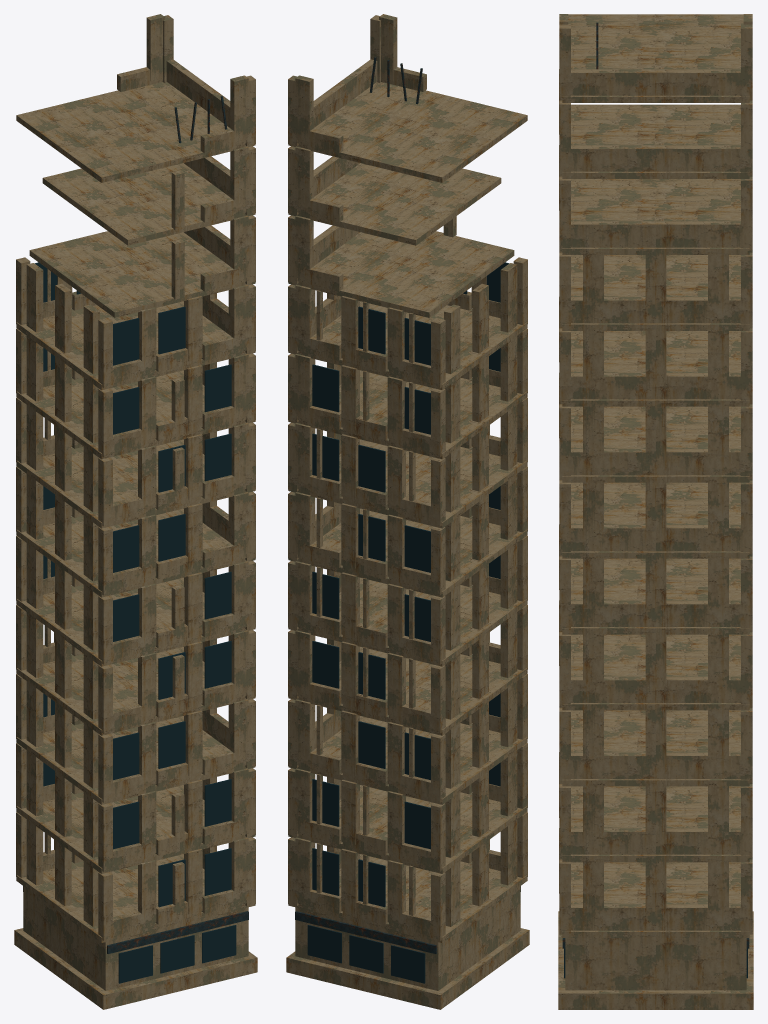
The model's file is city-tower.glb.
The picture shows the model from 3 angles, left to right: view 1: azimuth 30°, elevation 25°; view 2: azimuth 150°, elevation 25°; view 3: azimuth 270°, elevation 25°; orthographic projection. The views are drawn at different scales.
Visible parts, largest first — view 1: city-tower-concrete, city-tower-steel (×2); view 2: city-tower-concrete, city-tower-steel (×2); view 3: city-tower-concrete.
Boxes of the visible parts, left/top/right/bottom form: city-tower-concrete: left=14, top=14, right=257, bottom=1009; city-tower-steel (×2): left=23, top=96, right=248, bottom=983; city-tower-concrete: left=286, top=14, right=529, bottom=1009; city-tower-steel (×2): left=295, top=57, right=520, bottom=983; city-tower-concrete: left=558, top=14, right=753, bottom=1009.
Size of the model in its own units: 7 by 38.88 by 7.
Materials: 3 (2 with a texture image).
